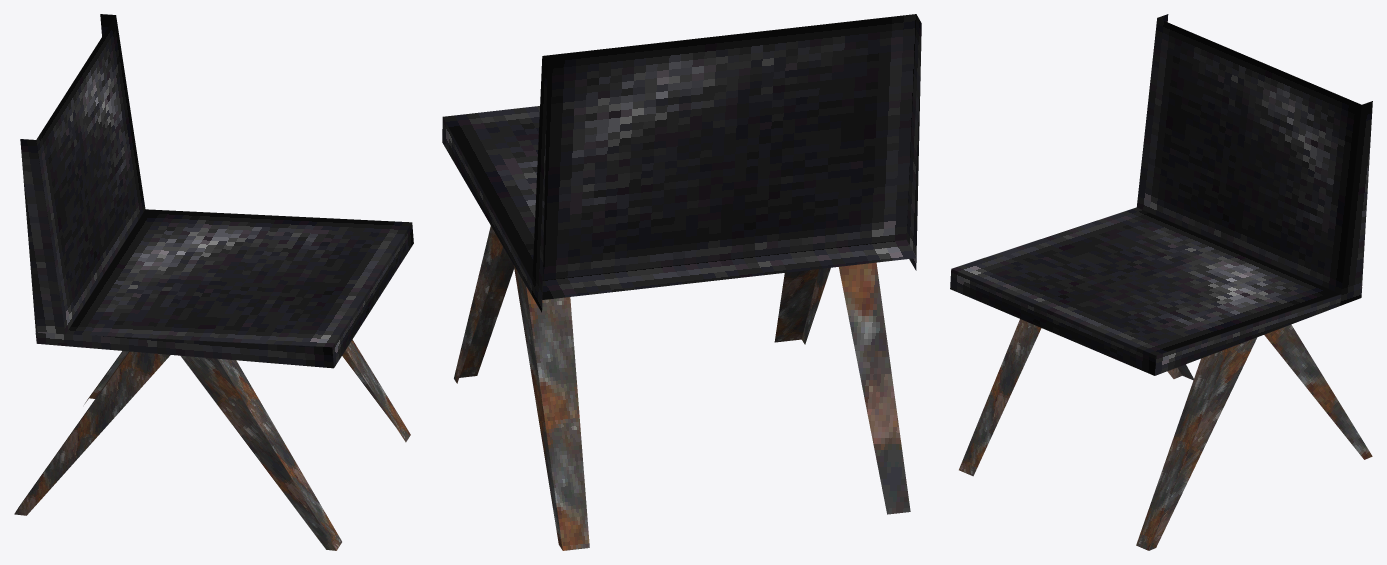
File: primary_265.glb
The picture shows the model from 3 angles, left to right: view 1: azimuth 30°, elevation 25°; view 2: azimuth 150°, elevation 25°; view 3: azimuth 270°, elevation 25°; orthographic projection. The views are drawn at different scales.
Parts seen in each view (by area): view 1: Object; view 2: Object; view 3: Object.
Boxes of the visible parts, <box> form: Object: <box>14,14,413,550</box>; Object: <box>442,14,921,550</box>; Object: <box>950,14,1372,550</box>.
Bounding box in the file's own units: 0.9452 × 0.8928 × 0.9454.
Materials: 2 (2 with a texture image).
